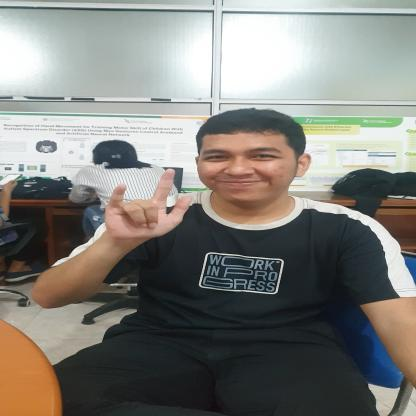ILoveYou: (85, 161, 197, 264)
